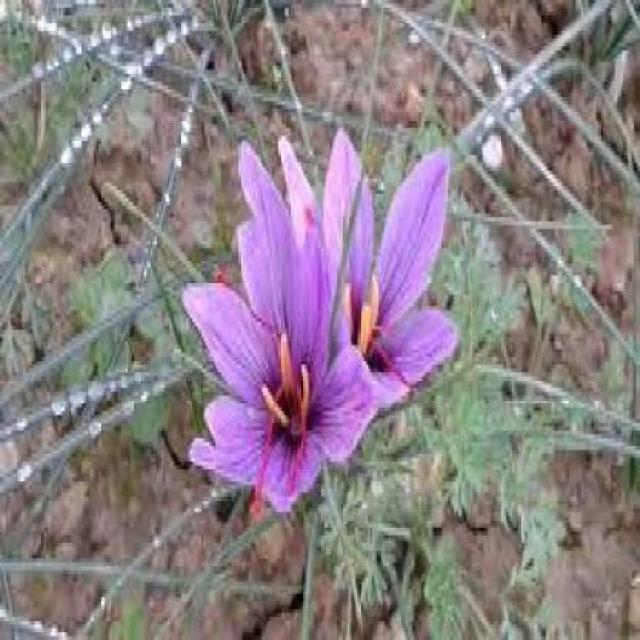saffron open: (184, 144, 381, 511), (279, 129, 458, 406)
